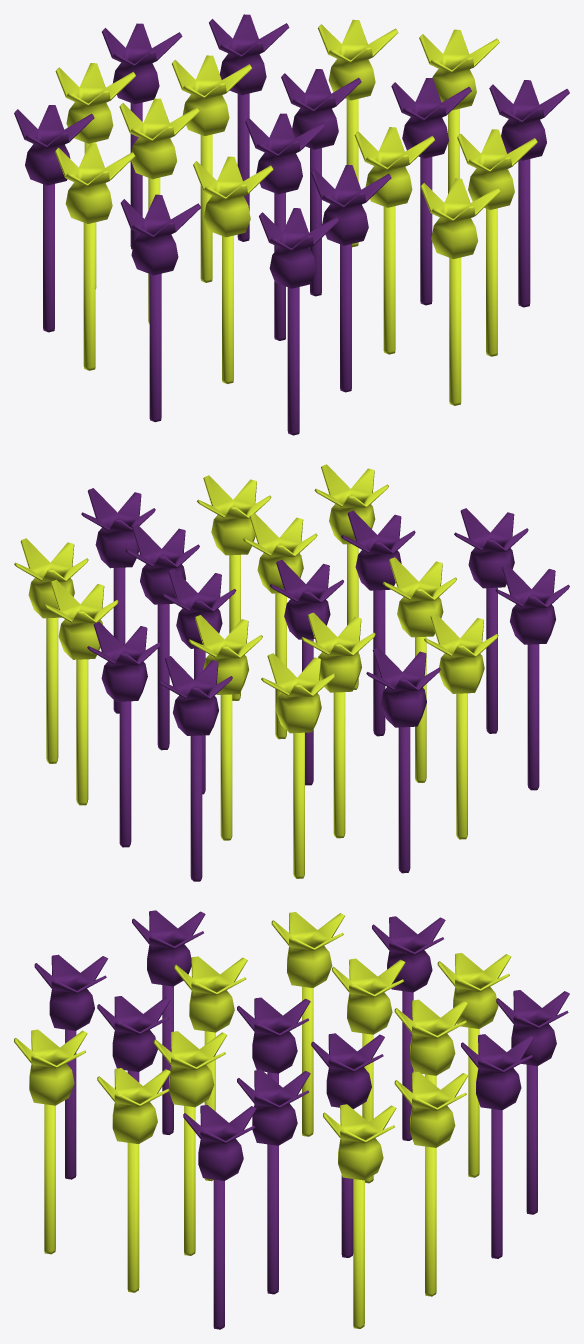
File: pensamientotall .fbx
The picture shows the model from 3 angles, top to bottom: view 1: azimuth 30°, elevation 25°; view 2: azimuth 150°, elevation 25°; view 3: azimuth 270°, elevation 25°; orthographic projection. The views are drawn at different scales.
Parts seen in each view (by area): view 1: tallos; view 2: tallos; view 3: tallos.
Boxes of the visible parts, x1,y1,x2,y2 form: tallos: (14,14,569,435); tallos: (14,464,569,881); tallos: (14,910,569,1329).
Size of the model in its own units: 63.49 by 27.8 by 65.46.
